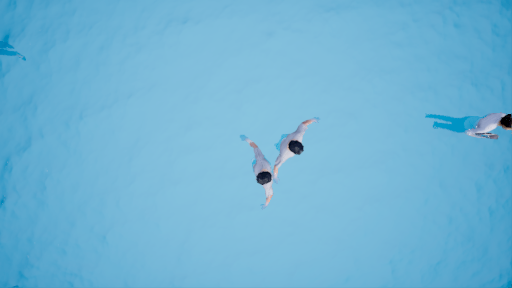person: (416, 97, 512, 144), (268, 106, 327, 181), (230, 131, 281, 204)
